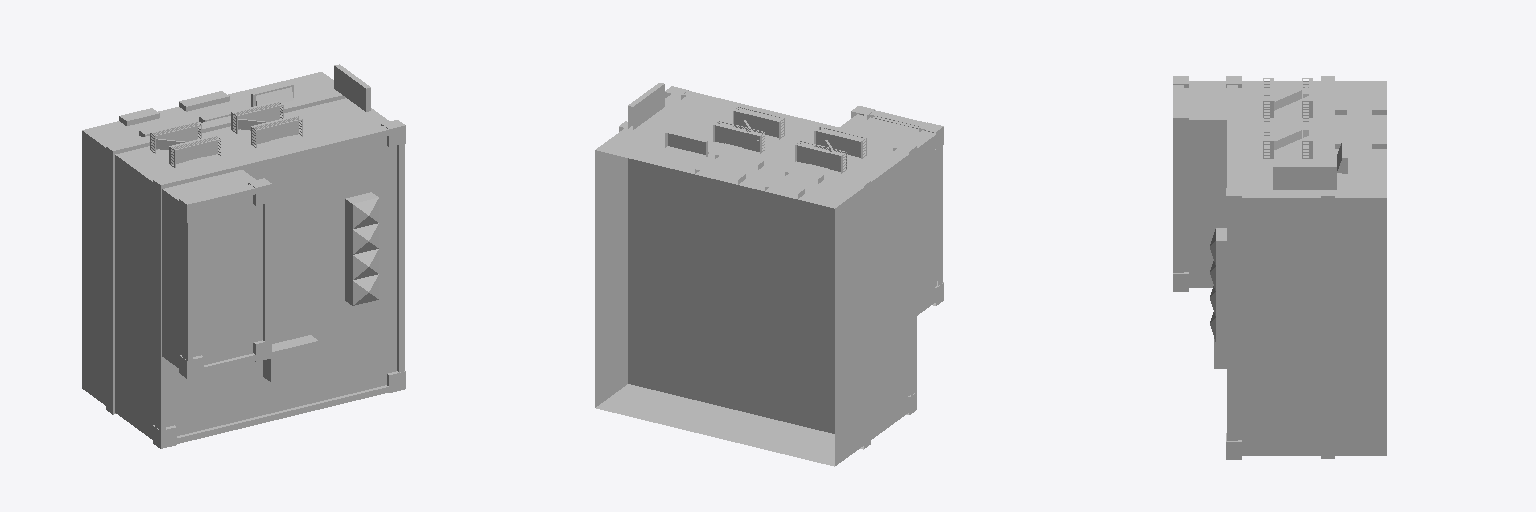
Rendered from ccity_blue.obj.
The picture shows the model from 3 angles: view 1: azimuth 30°, elevation 25°; view 2: azimuth 150°, elevation 25°; view 3: azimuth 270°, elevation 25°; orthographic projection.
Visible parts, largest first — view 1: Filler_Apartments1_group59.001; view 2: Filler_Apartments1_group59.001; view 3: Filler_Apartments1_group59.001.
Boxes of the visible parts, x1=… form: Filler_Apartments1_group59.001: x1=82, y1=64, x2=405, y2=448; Filler_Apartments1_group59.001: x1=595, y1=83, x2=943, y2=466; Filler_Apartments1_group59.001: x1=1173, y1=76, x2=1386, y2=459.
Bounding box in the file's own units: 18.44 × 20.6 × 13.92.